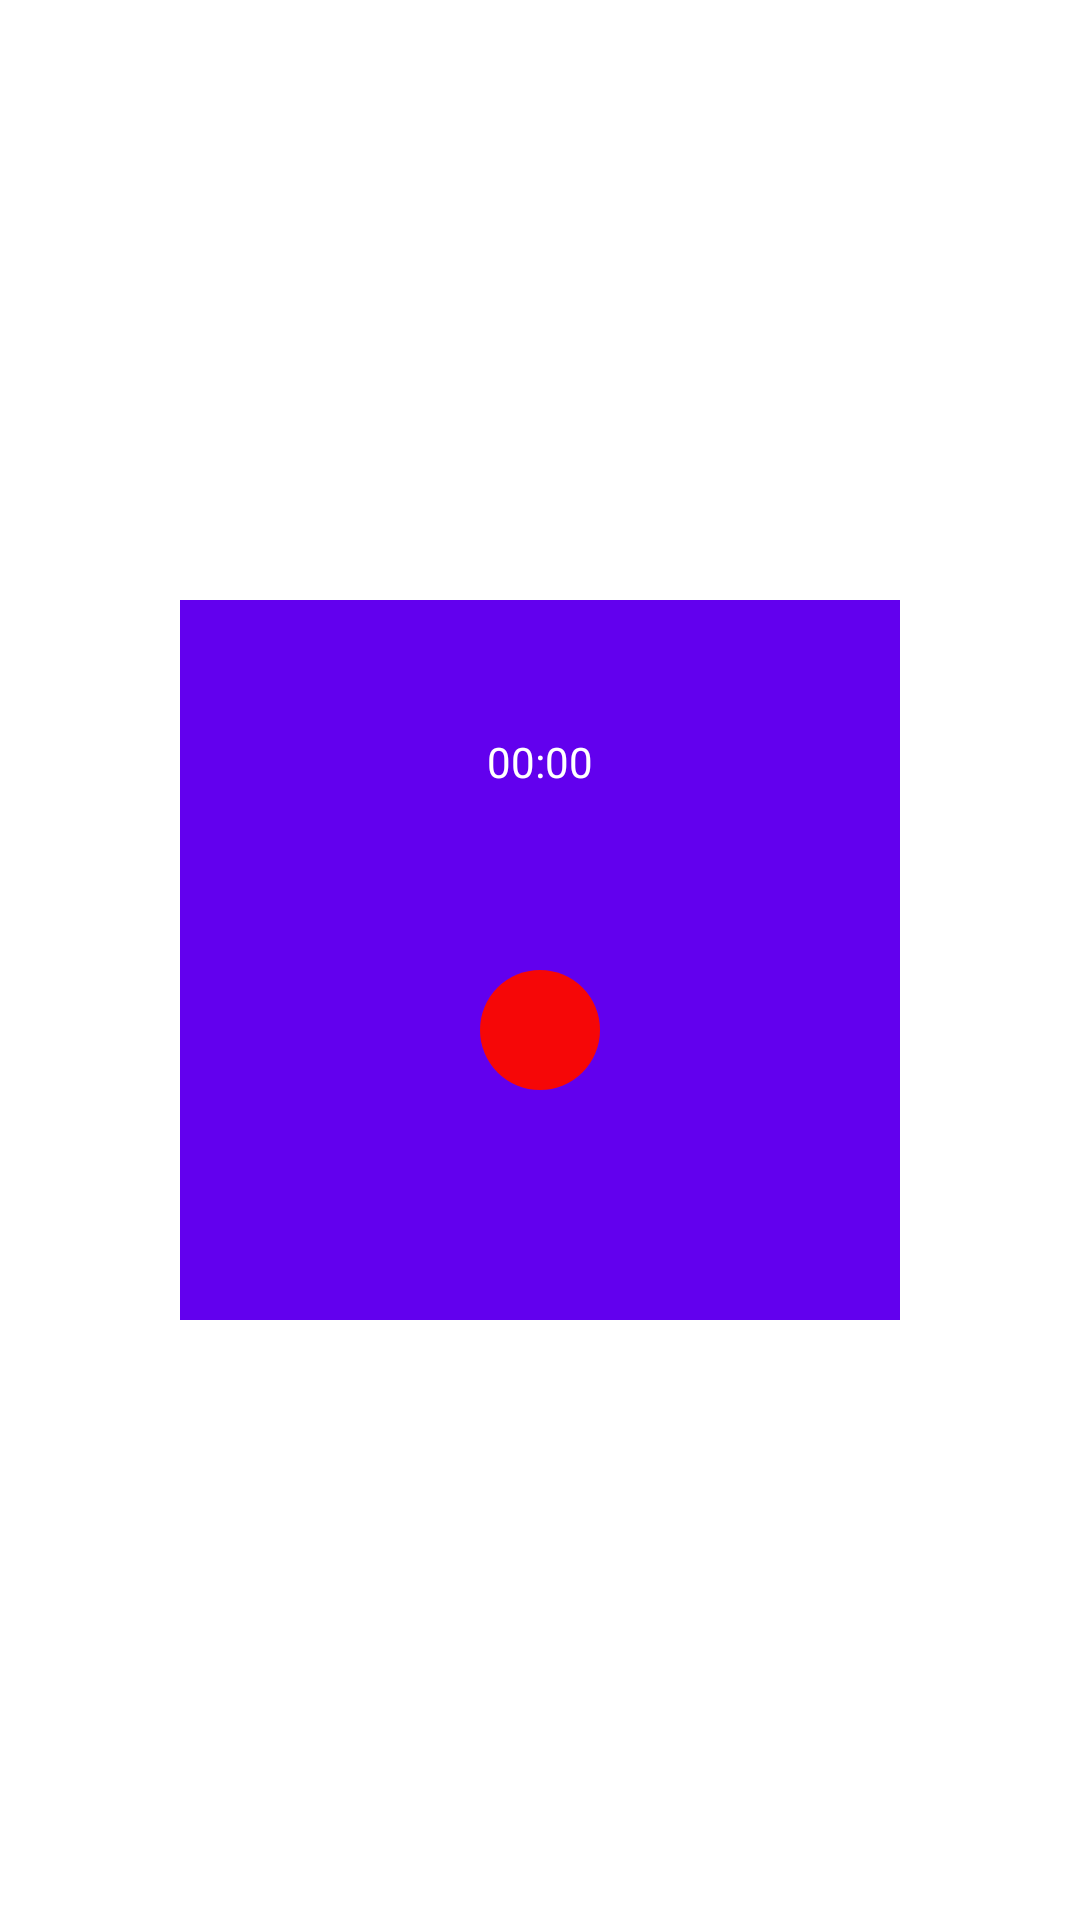

Named icons in this screenshot (1080*1920) and their bounding boxes, (left=x1, top=y1, right=x2, bottom=y2):
record: (left=480, top=970, right=600, bottom=1090)
